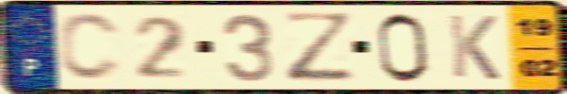0: (375, 11, 432, 84)
2: (132, 14, 190, 80)
3: (220, 12, 275, 83)
C: (56, 10, 125, 83)
K: (445, 12, 504, 83)
Z: (279, 10, 361, 85)
